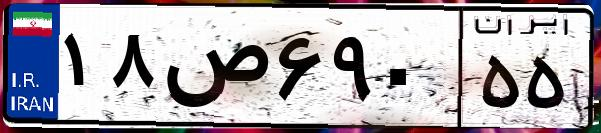0: (385, 28, 445, 110)
1: (57, 26, 110, 100)
5: (475, 38, 525, 113), (525, 38, 570, 115)
6: (270, 28, 330, 110)
8: (110, 28, 158, 98)
9: (330, 28, 385, 110)
ص: (158, 20, 270, 120)
